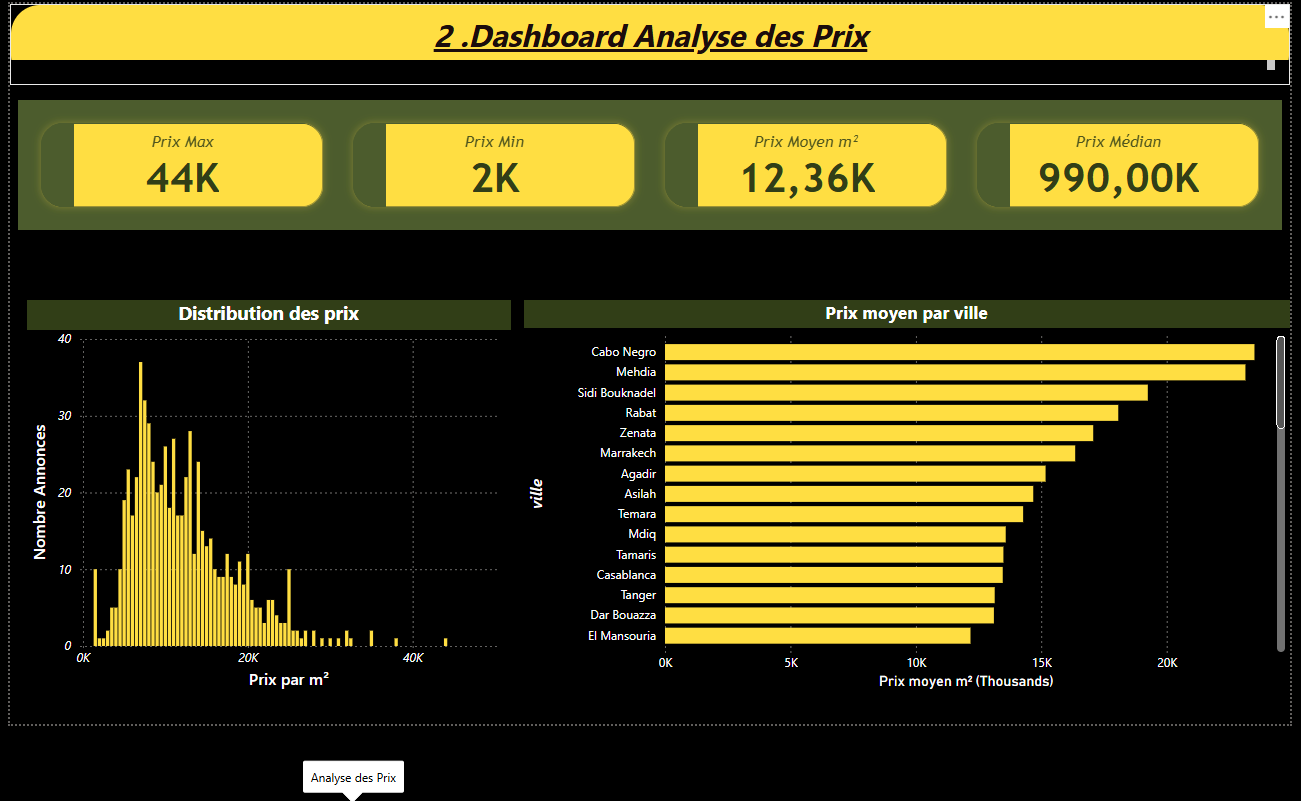

This screenshot's page, from the dashboard's own definition file:
{"tool":"powerbi","page":{"name":"Analyse des Prix","canvas":[1280,720],"ordinal":1},"visuals":[{"type":"cardVisual","fields":{"Data":["bi_schema fact_avito.Prix Max","bi_schema fact_avito.Prix Min","bi_schema fact_avito.Prix Moyen M2","bi_schema fact_avito.Prix Médian"]},"box":[3,91,1277,140],"z":0},{"type":"lineStackedColumnComboChart","title":"Distribution des prix ","fields":{"Category":["bi_schema fact_avito.prix_par_m2 (bins)"],"Y":["bi_schema fact_avito.Nombre Annonces"]},"box":[17,296,484,394],"z":1000},{"type":"barChart","title":"Prix moyen par ville","fields":{"Category":["bi_schema regions.ville"],"Y":["bi_schema fact_avito.Prix Moyen M2"]},"box":[514,296,766,394],"z":2000},{"type":"textbox","title":"2 .Dashboard Analyse des Prix","box":[0,0,1280,81],"z":3000}]}

Visuals, with their boxes on the page's 1280x720 design canvas (x1, y1, x2, y2). These are canvas units, not pixel positions in the 1301x801 screenshot, which may show the page scaled, cropped or inside an application window:
cardVisual - bi_schema fact_avito.Prix Max x bi_schema fact_avito.Prix Min: 3/91/1280/231
"Distribution des prix " lineStackedColumnComboChart: 17/296/501/690
"Prix moyen par ville" barChart: 514/296/1280/690
"2 .Dashboard Analyse des Prix" textbox: 0/0/1280/81
